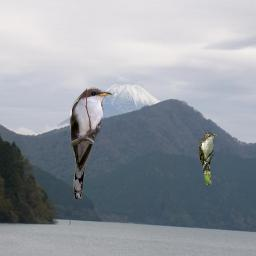Cuckoo: (69, 87, 112, 199), (199, 131, 217, 185)
